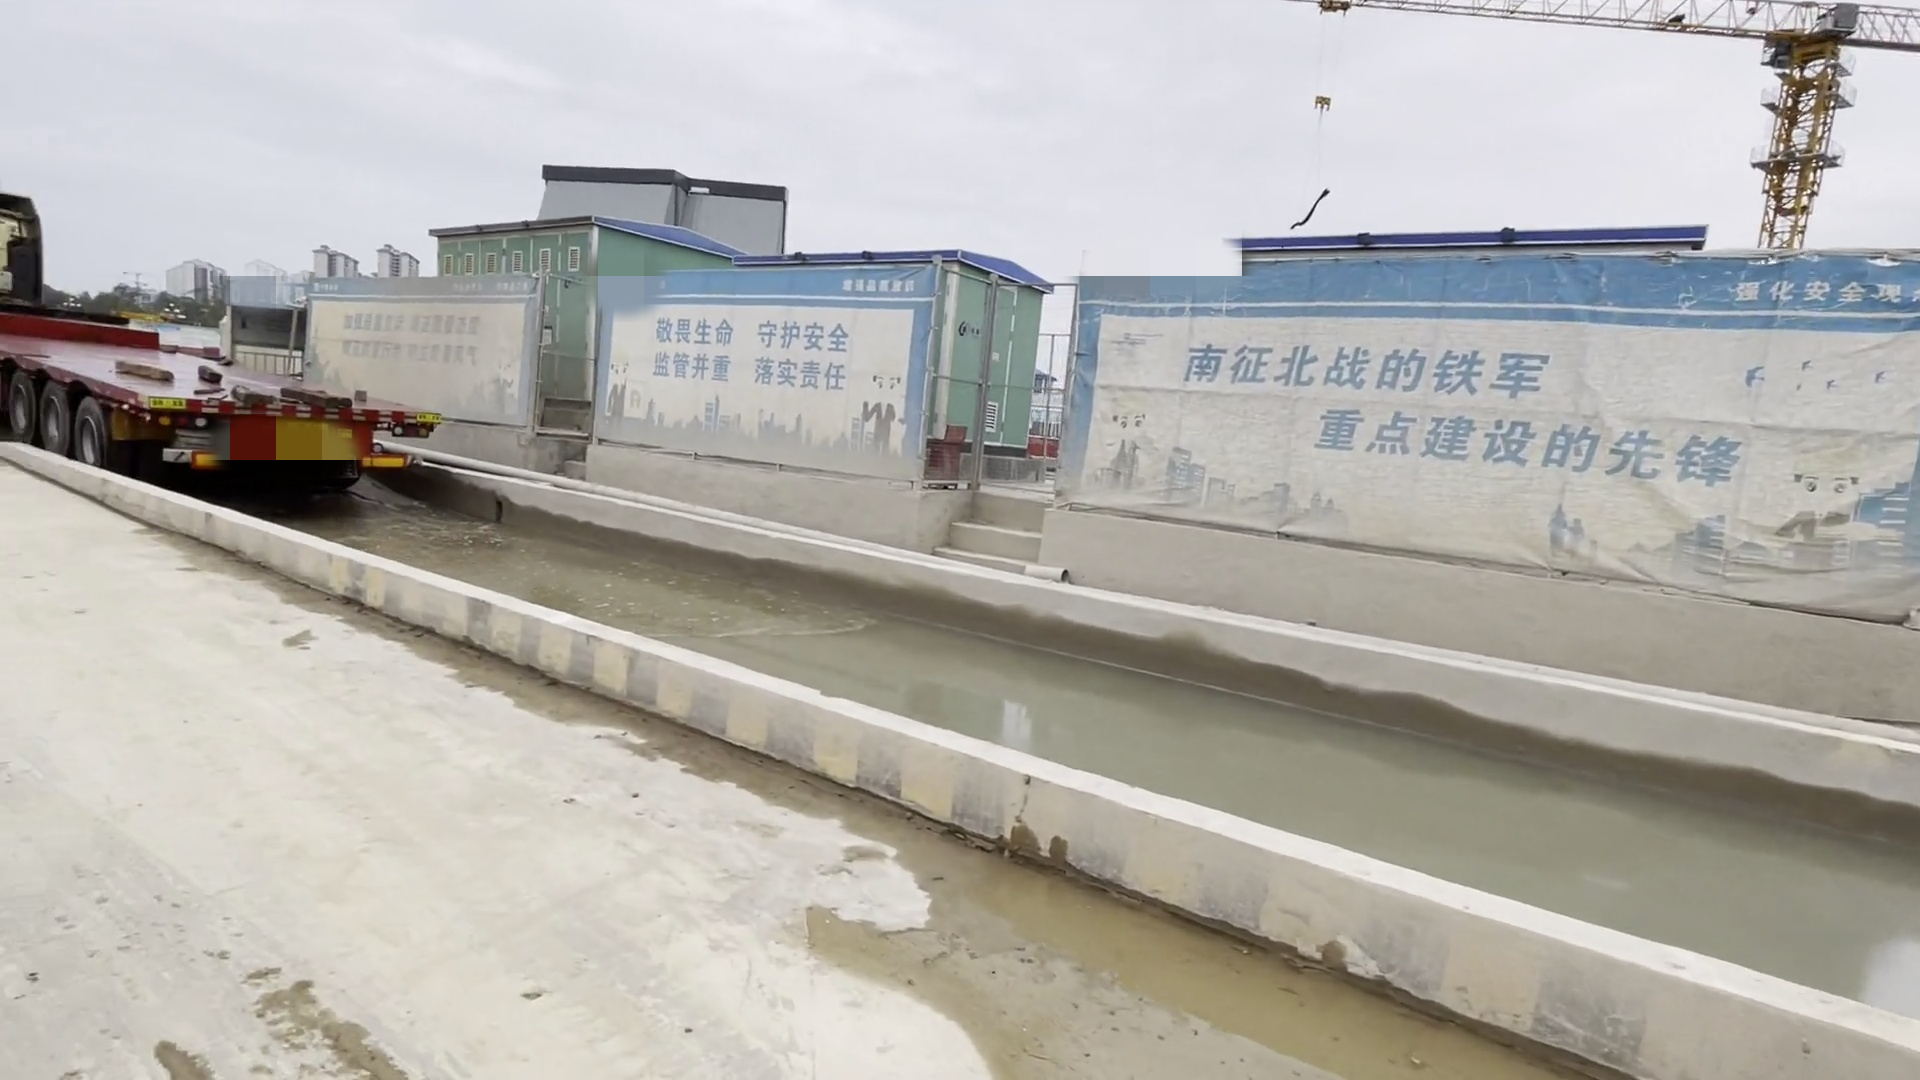hook: (1313, 94, 1331, 111)
slogan: (1149, 258, 1920, 560), (626, 284, 931, 421), (262, 290, 531, 369)
